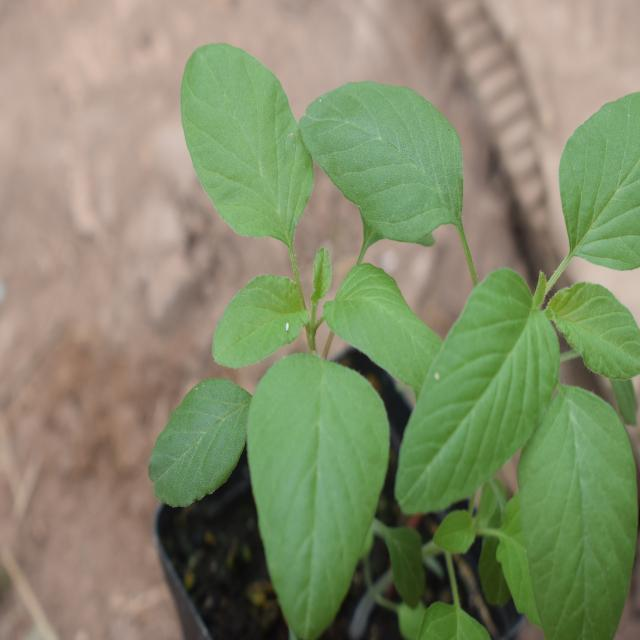pigweed: (170, 36, 431, 604), (407, 77, 632, 631)
